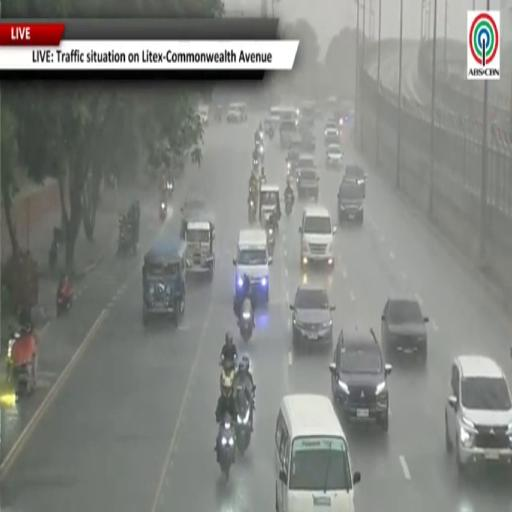car: (445, 356, 511, 472), (330, 329, 392, 430), (381, 294, 428, 364), (290, 284, 335, 346), (300, 205, 336, 269), (338, 179, 365, 223), (297, 167, 319, 201), (285, 140, 303, 177), (344, 165, 366, 193), (326, 143, 344, 169), (297, 153, 316, 170), (324, 125, 339, 145), (301, 132, 315, 153), (198, 105, 209, 125), (227, 108, 241, 123)
jeepney: (143, 238, 187, 325), (185, 220, 214, 278), (259, 185, 280, 226)
motorcycle: (6, 332, 37, 399), (236, 387, 255, 455), (218, 419, 235, 481), (238, 297, 254, 342), (118, 222, 136, 255), (56, 290, 73, 317), (220, 358, 236, 385), (266, 222, 275, 255), (49, 239, 58, 271), (248, 199, 256, 223), (285, 195, 294, 215), (159, 202, 167, 220), (165, 180, 173, 197), (258, 142, 264, 164), (285, 200, 293, 215), (267, 126, 274, 140), (253, 158, 259, 173), (259, 131, 263, 142)
